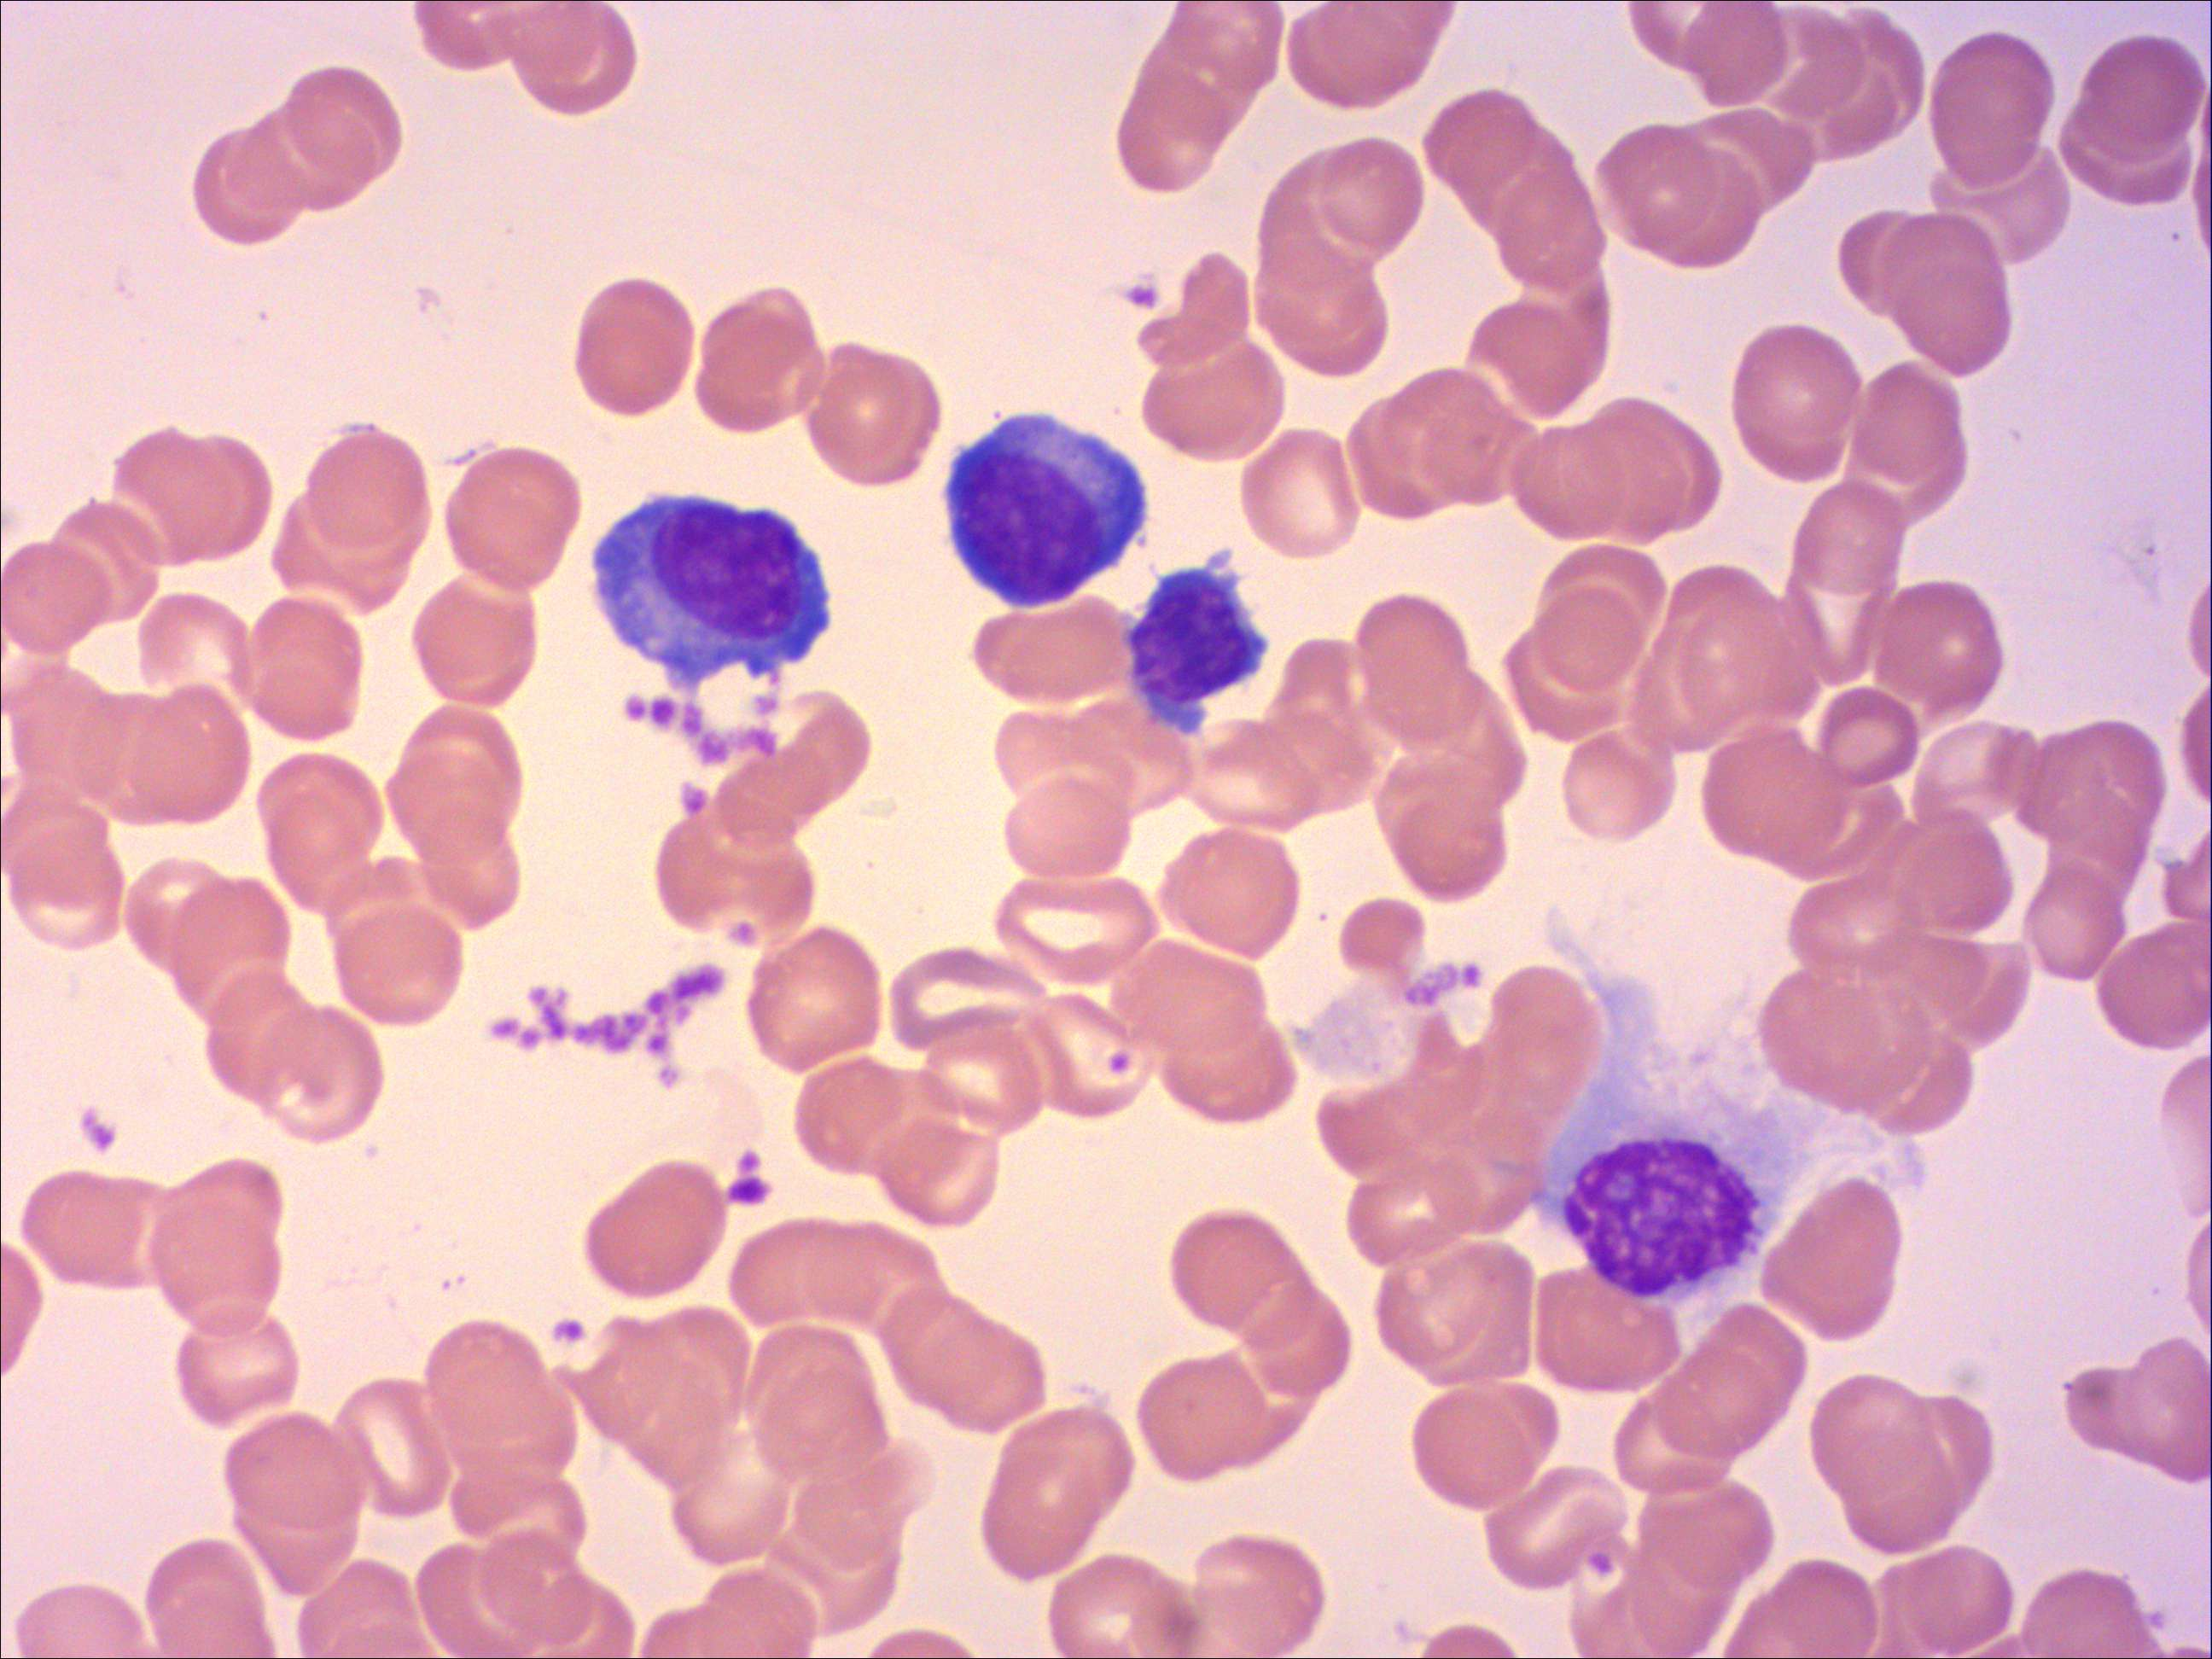51: (587, 490, 836, 699), (937, 408, 1153, 617), (1118, 545, 1277, 739)
x: (1533, 1098, 1797, 1314)
